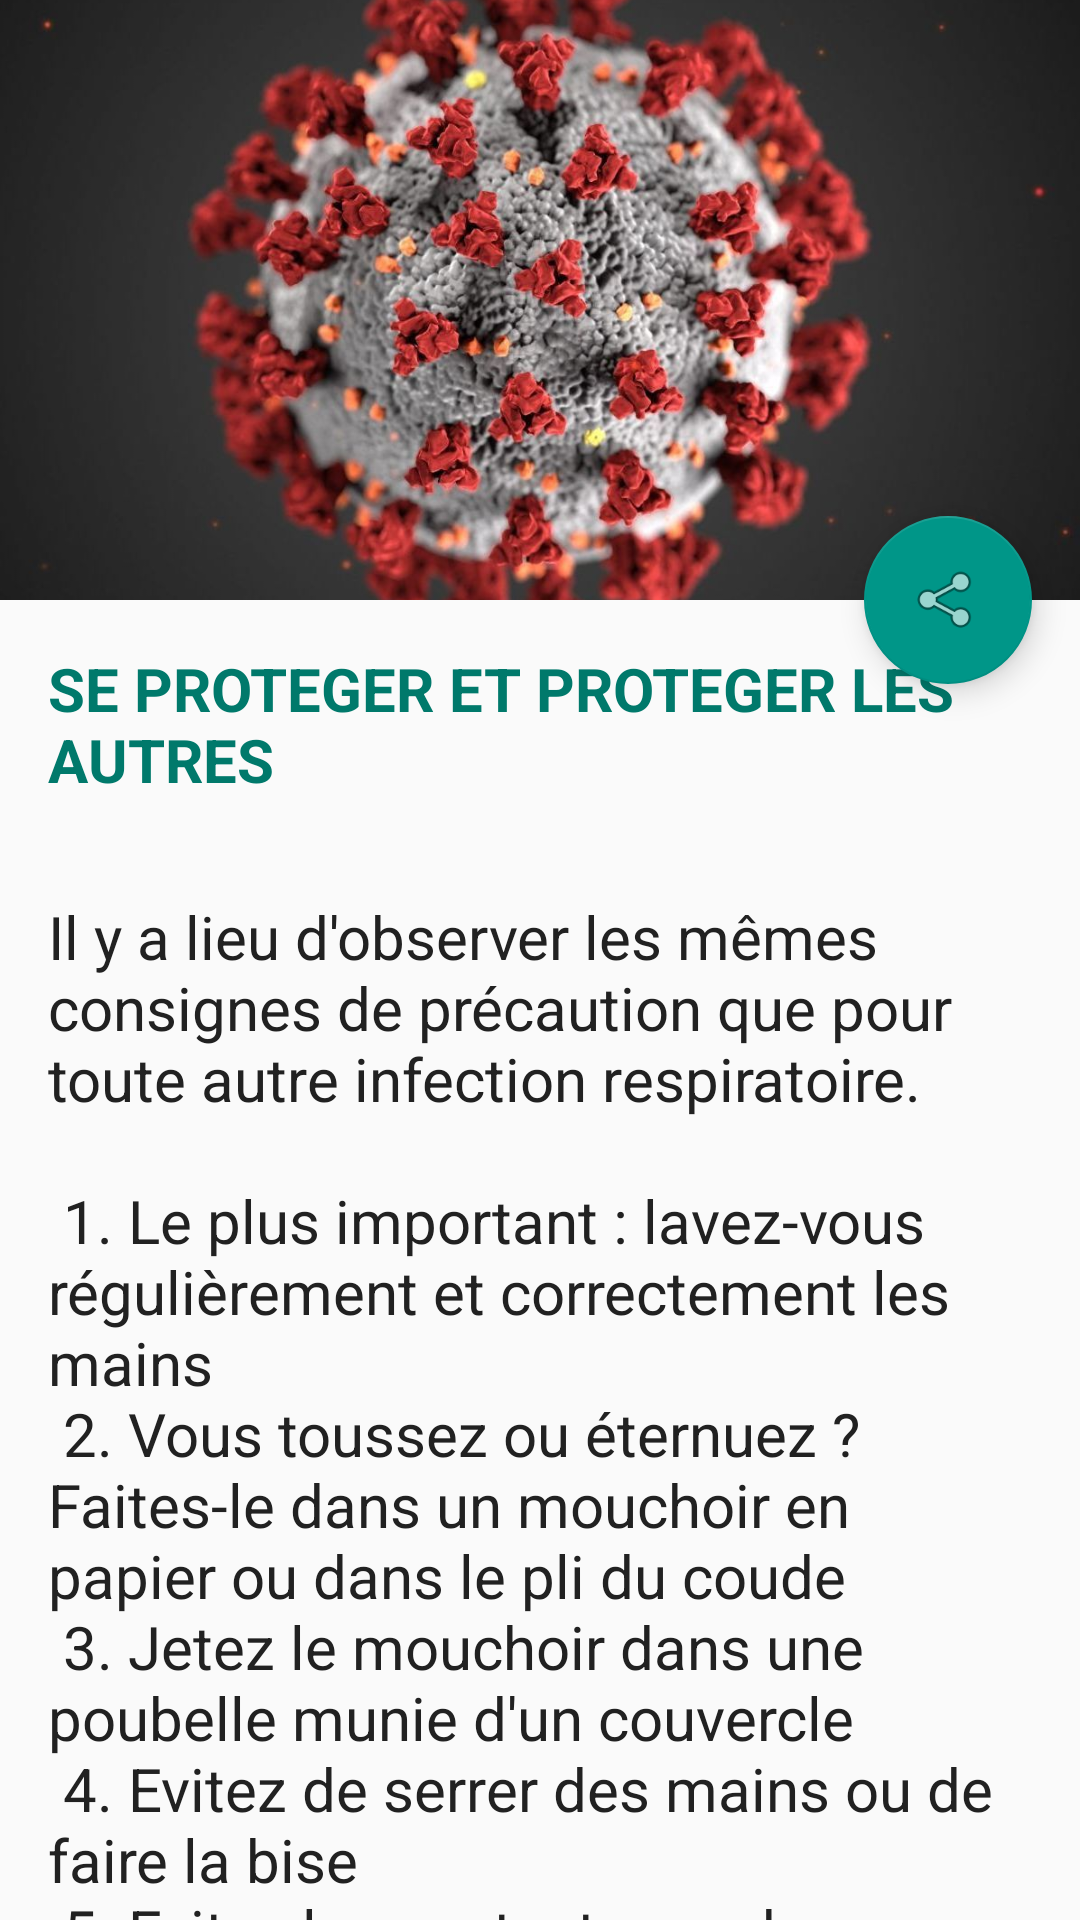

Icon click points for this 1080x1920 phone screenshot, format (x,y):
share: (948,600)
